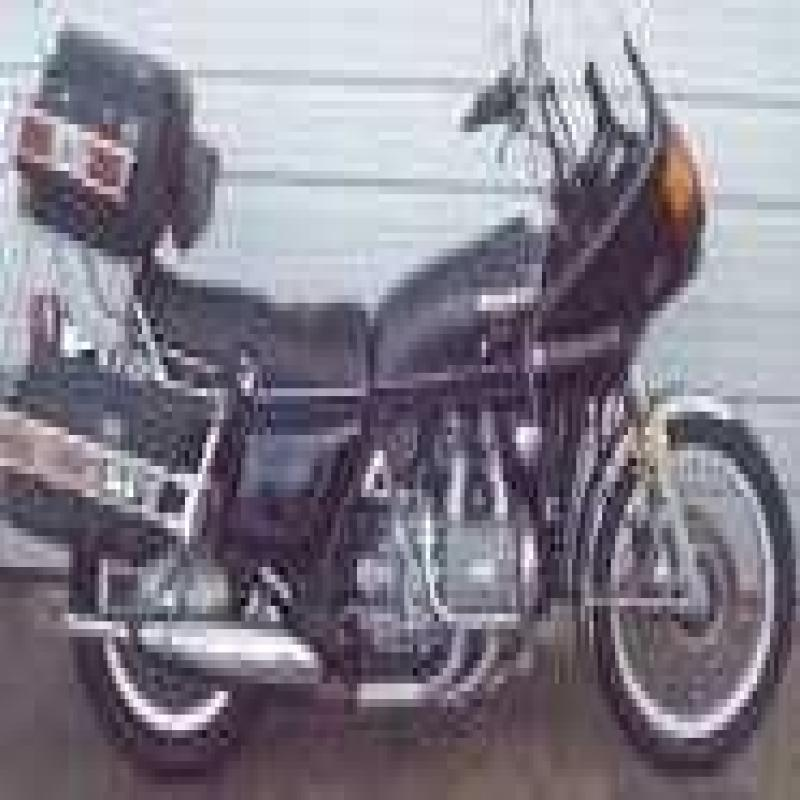bike: (27, 0, 789, 755)
